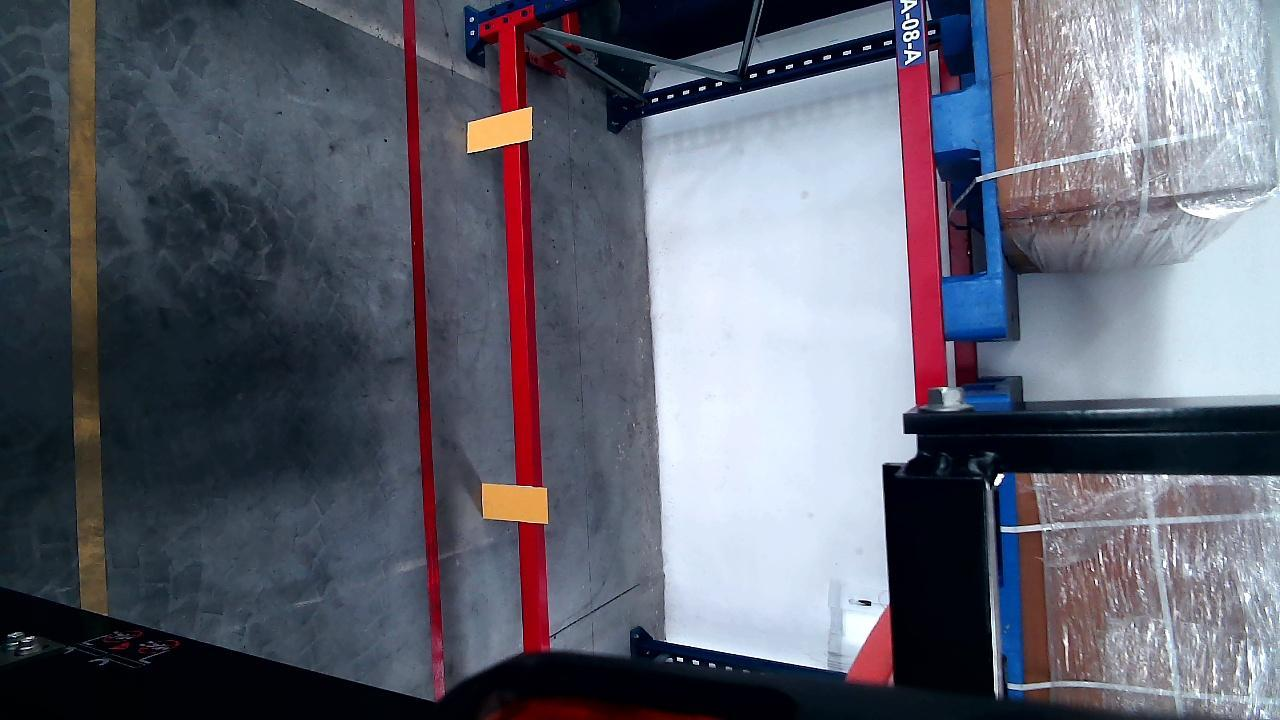red_line: (400, 1, 447, 698)
